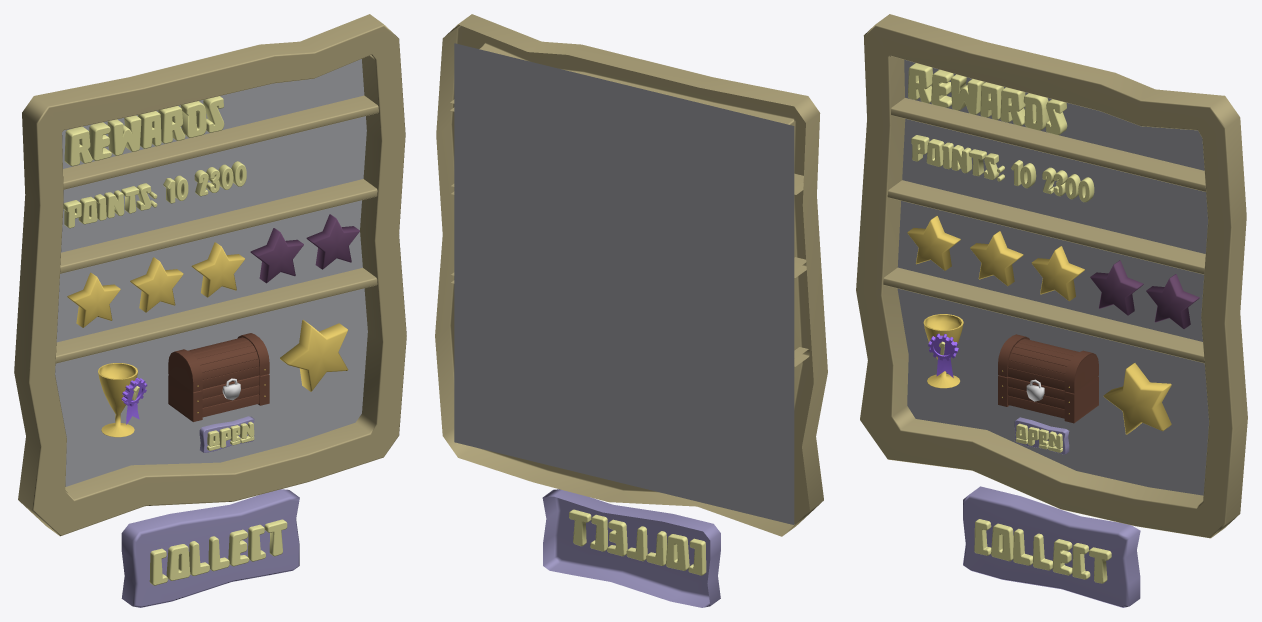
Rendered from Reward_UI.fbx.
The picture shows the model from 3 angles, left to right: view 1: azimuth 30°, elevation 25°; view 2: azimuth 150°, elevation 25°; view 3: azimuth 330°, elevation 25°; orthographic projection.
Parts seen in each view (by area): view 1: UI_BG, b2, Star_Eval, R_Chest, REWARDS, POINTS, b2_txt, R_Star, R_Cup, b1_txt, b1; view 2: UI_BG, b2, b2_txt; view 3: UI_BG, b2, Star_Eval, R_Chest, REWARDS, POINTS, b2_txt, R_Star, R_Cup, b1_txt, b1.
Part boxes in pixels (x1,y1,x2,y2): UI_BG: (14, 14, 406, 536); b2: (121, 489, 299, 607); Star_Eval: (67, 214, 359, 327); R_Chest: (168, 333, 269, 421); REWARDS: (64, 96, 224, 166); POINTS: (63, 161, 246, 228); b2_txt: (149, 519, 287, 585); R_Star: (280, 319, 348, 391); R_Cup: (98, 363, 147, 437); b1_txt: (207, 421, 254, 450); b1: (199, 416, 254, 452); UI_BG: (435, 14, 827, 536); b2: (542, 489, 720, 607); b2_txt: (569, 509, 706, 575); UI_BG: (856, 14, 1247, 538); b2: (963, 486, 1140, 607); Star_Eval: (907, 216, 1199, 328); R_Chest: (998, 334, 1098, 423); REWARDS: (908, 63, 1067, 135); POINTS: (911, 135, 1094, 202); b2_txt: (974, 519, 1111, 583); R_Star: (1103, 363, 1171, 434); R_Cup: (923, 314, 963, 388); b1_txt: (1015, 423, 1062, 452); b1: (1014, 417, 1069, 454).
Bounding box in the file's own units: 1.24 × 1.65 × 0.1552.
